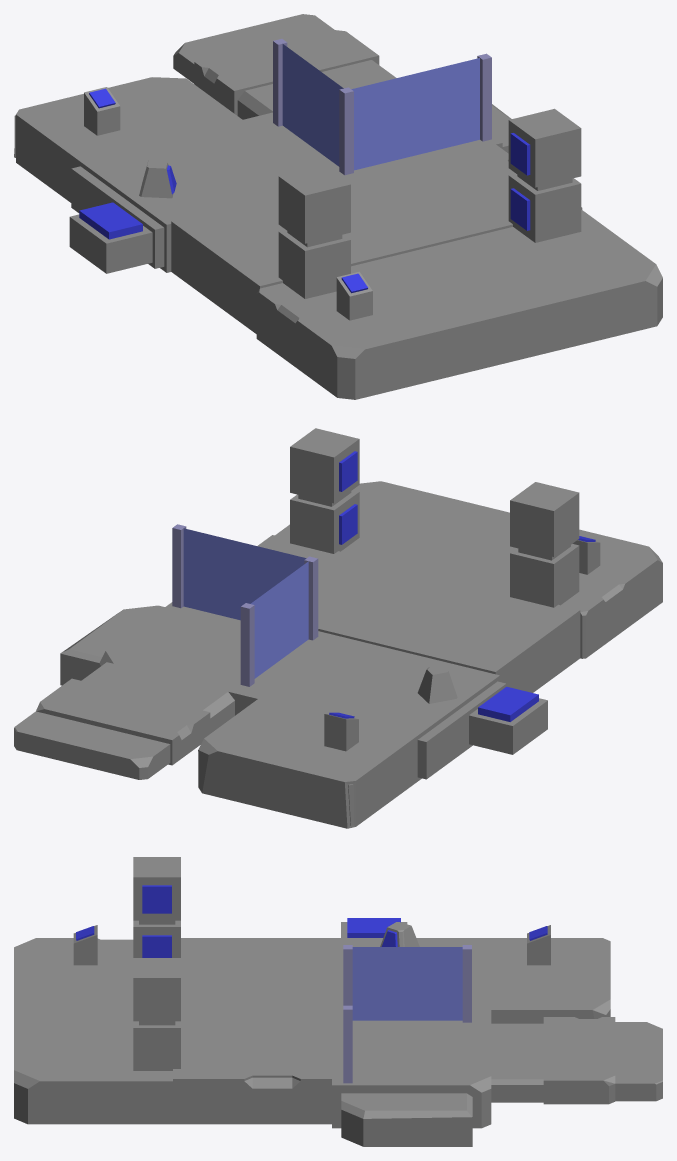
The model's file is stageblend.fbx.
The picture shows the model from 3 angles, top to bottom: view 1: azimuth 30°, elevation 25°; view 2: azimuth 150°, elevation 25°; view 3: azimuth 270°, elevation 25°; orthographic projection. The views are drawn at different scales.
Visible parts, largest first — view 1: Cube, Cube.001; view 2: Cube, Cube.001; view 3: Cube, Cube.001.
Boxes of the visible parts, x1=… form: Cube: x1=14, y1=39, x2=662, y2=399; Cube.001: x1=173, y1=14, x2=396, y2=119; Cube: x1=60, y1=428, x2=662, y2=828; Cube.001: x1=14, y1=662, x2=234, y2=779; Cube: x1=14, y1=857, x2=610, y2=1146; Cube.001: x1=491, y1=1017, x2=662, y2=1104.
Size of the model in its own units: 1900 by 630 by 2720.
